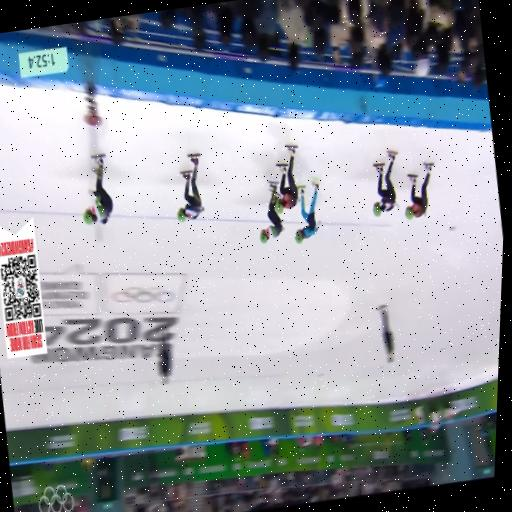Skater: (83, 155, 112, 223), (176, 153, 203, 221), (294, 179, 320, 243), (274, 145, 297, 212), (404, 163, 432, 218), (372, 150, 395, 216), (259, 181, 283, 243)
